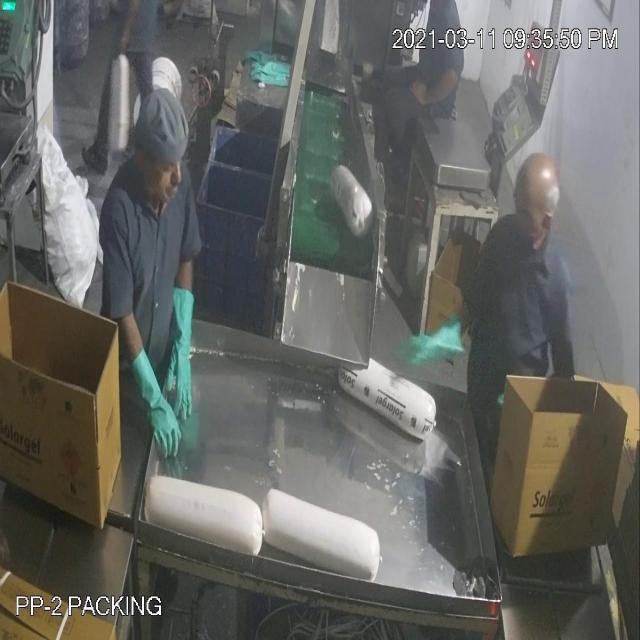Gloves: (45, 68, 437, 403)
